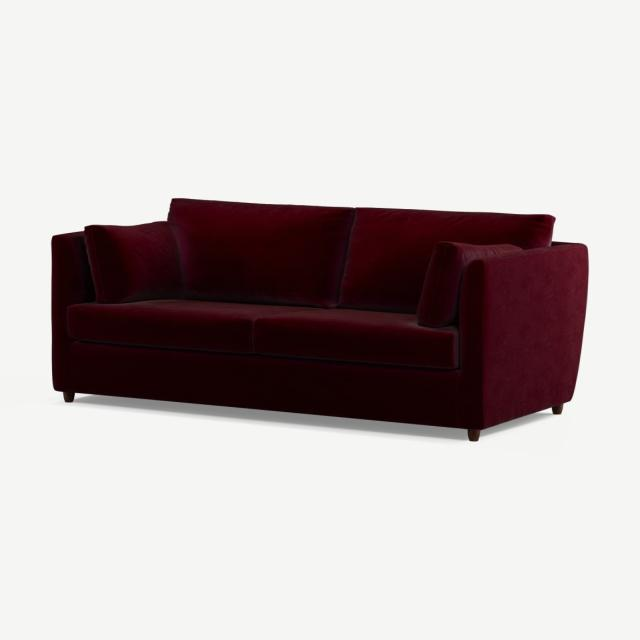Soffa: (40, 187, 598, 445)
